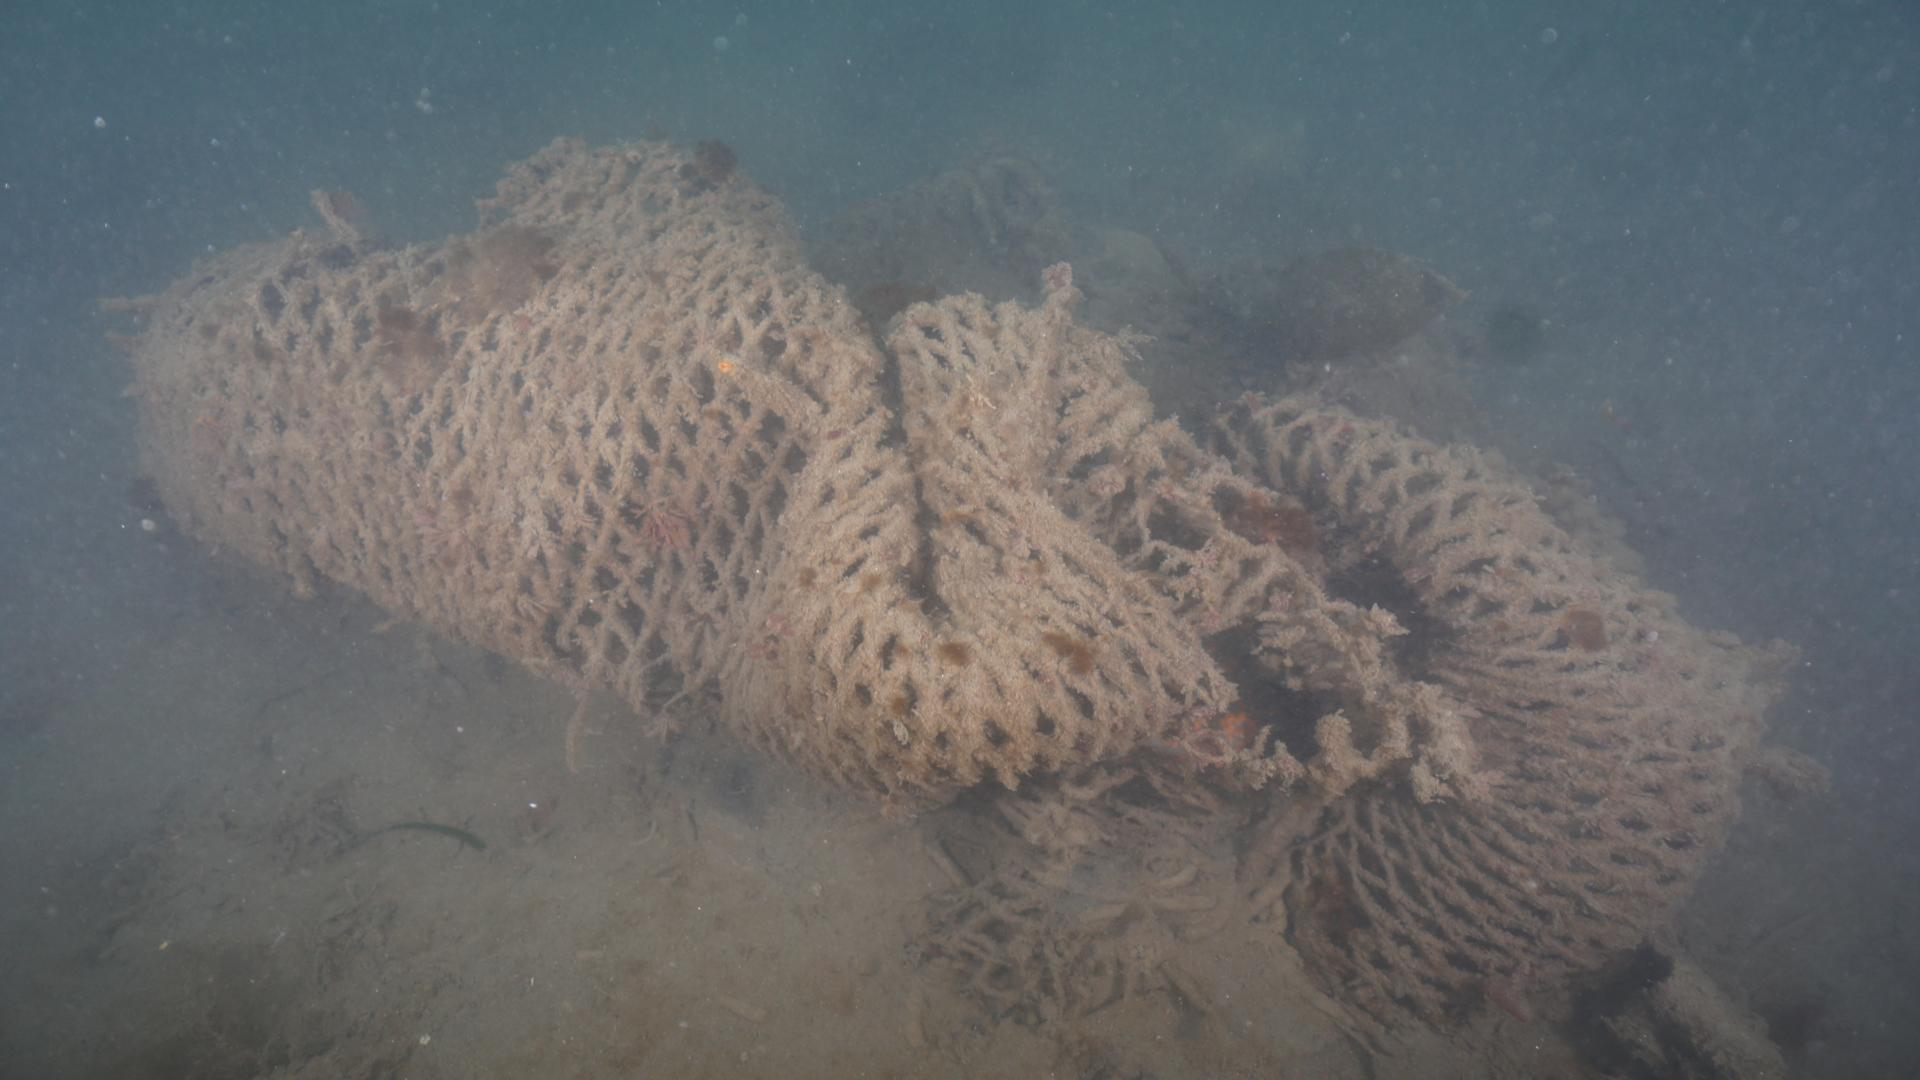fish net: (94, 131, 1834, 1044)
